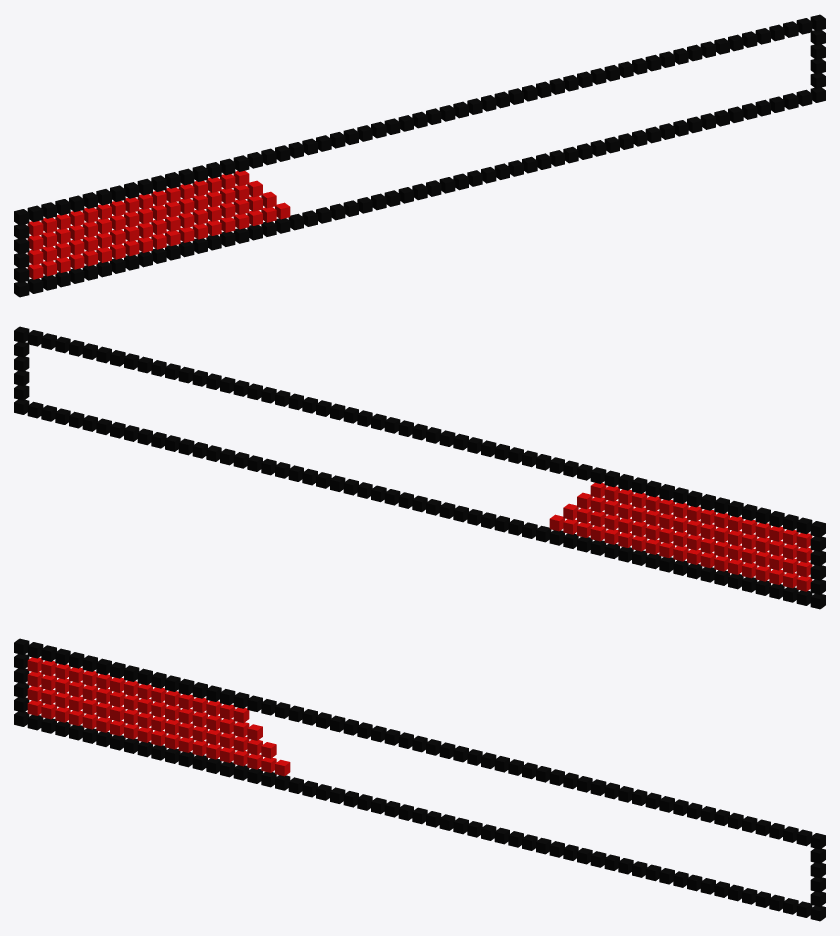
Rendered from BarFirst.fbx.
3 views of the same model, one above another, from view 1: azimuth 30°, elevation 25°; view 2: azimuth 150°, elevation 25°; view 3: azimuth 330°, elevation 25° (orthographic).
Parts seen in each view (by area): view 1: ProgressBarFirst; view 2: ProgressBarFirst; view 3: ProgressBarFirst.
Part boxes in pixels (bbox=[...]): ProgressBarFirst: bbox=[14, 14, 825, 297]; ProgressBarFirst: bbox=[14, 326, 825, 609]; ProgressBarFirst: bbox=[14, 638, 825, 921].
Bounding box in the file's own units: 82.2 × 8 × 1.
